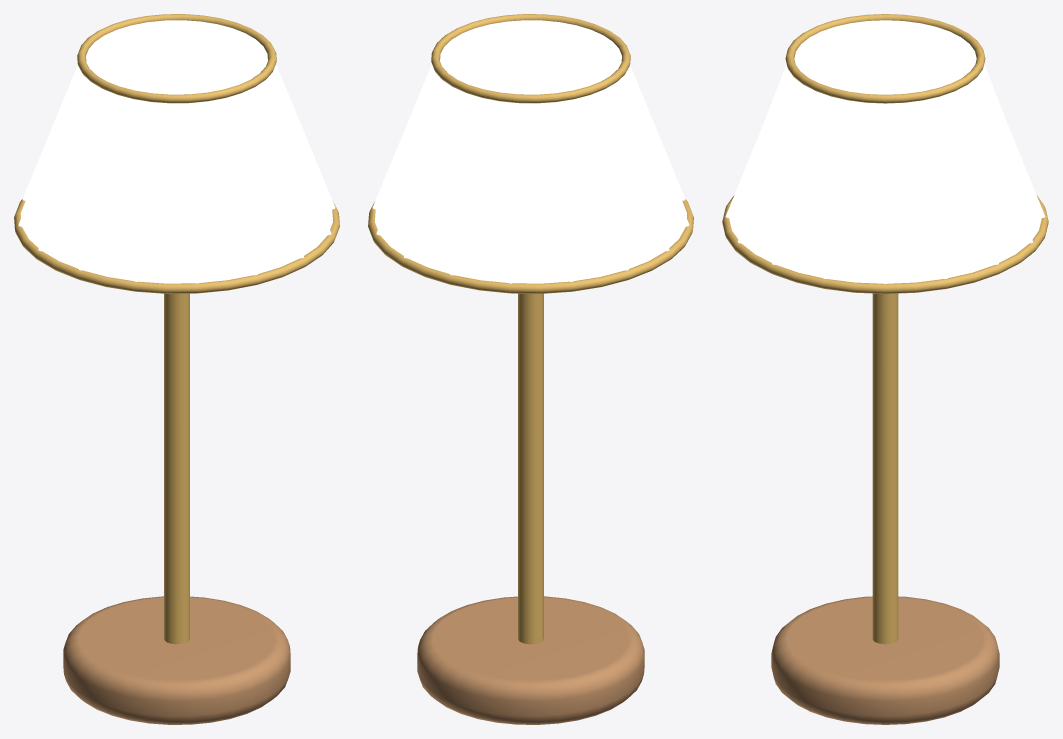
File: bedroomFloorLamp.glb
The picture shows the model from 3 angles, left to right: view 1: azimuth 30°, elevation 25°; view 2: azimuth 150°, elevation 25°; view 3: azimuth 270°, elevation 25°; orthographic projection.
Parts seen in each view (by area): view 1: Pleated lampshade, Lamp base, Brass lamp stem, Shade bottom piping, Shade top piping, Shade seam.011, Shade seam.010, Shade seam.012, Shade seam.009, Shade seam.013, Shade seam.008, Shade seam.014; view 2: Pleated lampshade, Lamp base, Brass lamp stem, Shade bottom piping, Shade top piping, Shade seam.005, Shade seam.006, Shade seam.004, Shade seam.007, Shade seam.003, Shade seam.008, Shade seam.002; view 3: Pleated lampshade, Lamp base, Brass lamp stem, Shade bottom piping, Shade top piping, Shade seam, Shade seam.001, Shade seam.015, Shade seam.002, Shade seam.014, Shade seam.003, Shade seam.013.
Boxes of the visible parts, x1,y1,x2,y2 form: Pleated lampshade: (21, 20, 332, 283); Lamp base: (63, 596, 290, 724); Brass lamp stem: (164, 293, 189, 644); Shade bottom piping: (14, 199, 339, 293); Shade top piping: (77, 14, 276, 103); Shade seam.011: (189, 104, 199, 283); Shade seam.010: (134, 104, 152, 281); Shade seam.012: (225, 100, 257, 275); Shade seam.009: (79, 96, 117, 270); Shade seam.013: (254, 89, 303, 258); Shade seam.008: (38, 84, 92, 251); Shade seam.014: (271, 75, 331, 235); Pleated lampshade: (375, 20, 686, 283); Lamp base: (417, 596, 644, 724); Brass lamp stem: (518, 293, 543, 644); Shade bottom piping: (368, 199, 693, 293); Shade top piping: (431, 14, 630, 103); Shade seam.005: (508, 104, 518, 283); Shade seam.006: (555, 104, 573, 281); Shade seam.004: (450, 100, 482, 275); Shade seam.007: (590, 96, 628, 270); Shade seam.003: (404, 89, 453, 258); Shade seam.008: (615, 84, 669, 251); Shade seam.002: (376, 75, 436, 235); Pleated lampshade: (729, 20, 1041, 283); Lamp base: (771, 596, 999, 724); Brass lamp stem: (872, 293, 898, 644); Shade bottom piping: (722, 195, 1048, 293); Shade top piping: (785, 14, 985, 103); Shade seam: (883, 105, 887, 283); Shade seam.001: (922, 102, 947, 279); Shade seam.015: (823, 102, 848, 279); Shade seam.002: (954, 93, 998, 264); Shade seam.014: (772, 93, 816, 264); Shade seam.003: (975, 80, 1032, 243); Shade seam.013: (738, 80, 795, 243).
Size of the model in its own units: 0.888 by 1.88 by 0.888.
